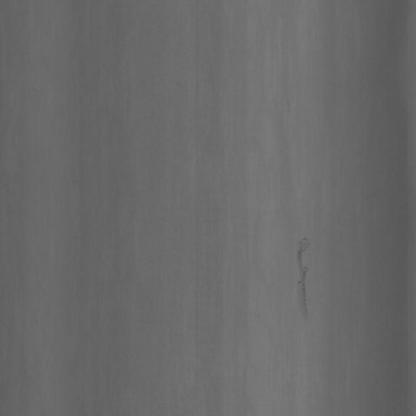water_spot: (284, 223, 315, 326)
